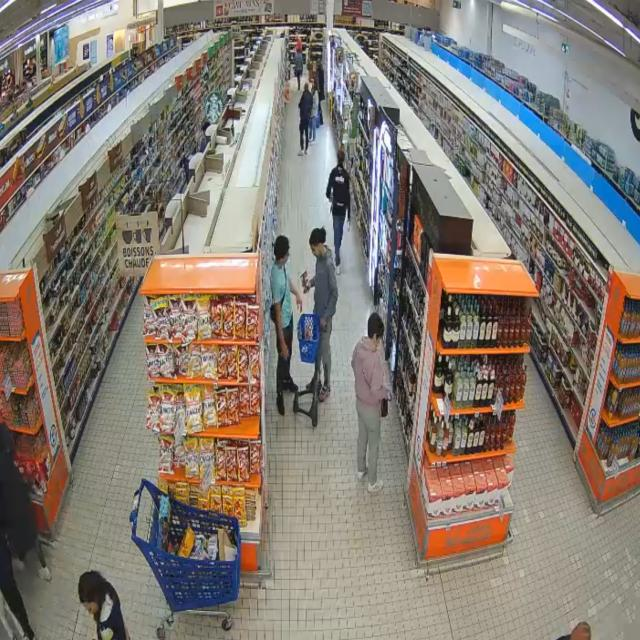article: (301, 271, 310, 294), (347, 220, 352, 232)
bags: (280, 268, 287, 309), (382, 399, 388, 417)
hands: (281, 341, 289, 358), (295, 293, 302, 312), (320, 318, 327, 331), (304, 284, 310, 293), (347, 218, 351, 222)
person: (0, 423, 52, 580), (352, 313, 390, 493), (305, 228, 338, 401), (271, 236, 301, 414), (0, 534, 34, 639), (78, 571, 128, 639), (327, 149, 350, 274), (558, 622, 591, 639)
